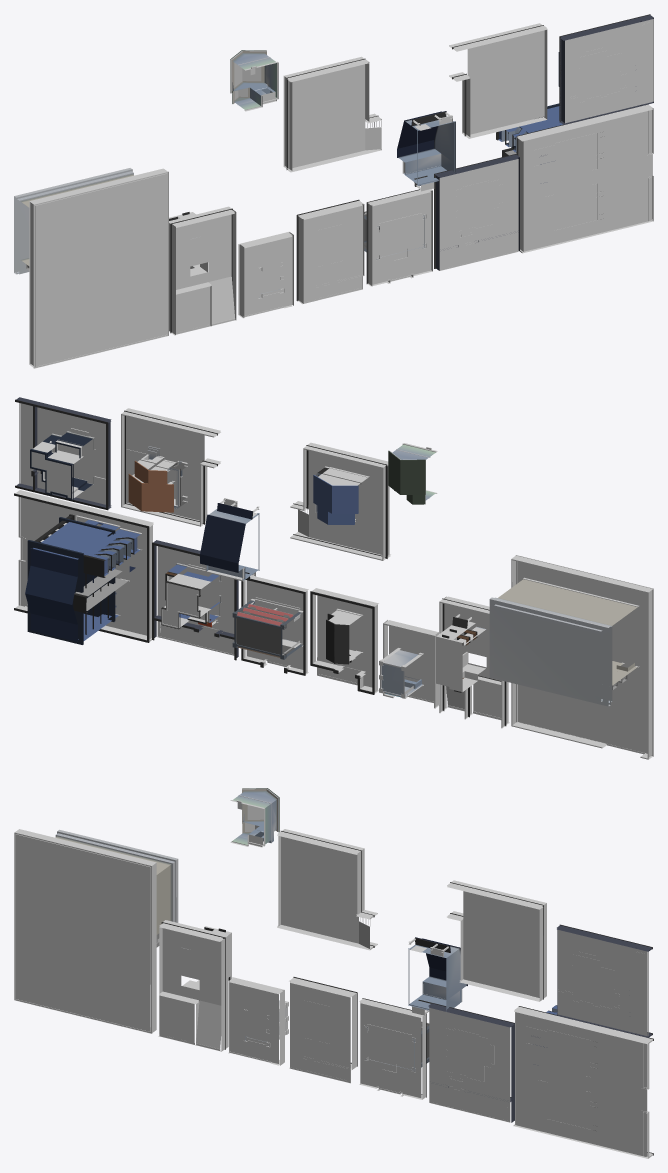
File: SM_000291_merge_w40h102_atlas1_1_5_lv2.fbx
3 views of the same model, one above another, from view 1: azimuth 30°, elevation 25°; view 2: azimuth 150°, elevation 25°; view 3: azimuth 330°, elevation 25° (orthographic). The views are drawn at different scales.
Parts seen in each view (by area): view 1: SM_000291.001; view 2: SM_000291.001; view 3: SM_000291.001.
Boxes of the visible parts, x1=… form: SM_000291.001: x1=14, y1=14, x2=653, y2=368; SM_000291.001: x1=14, y1=397, x2=653, y2=759; SM_000291.001: x1=14, y1=788, x2=653, y2=1158.
Size of the model in its own units: 130 by 50.75 by 16.97.
